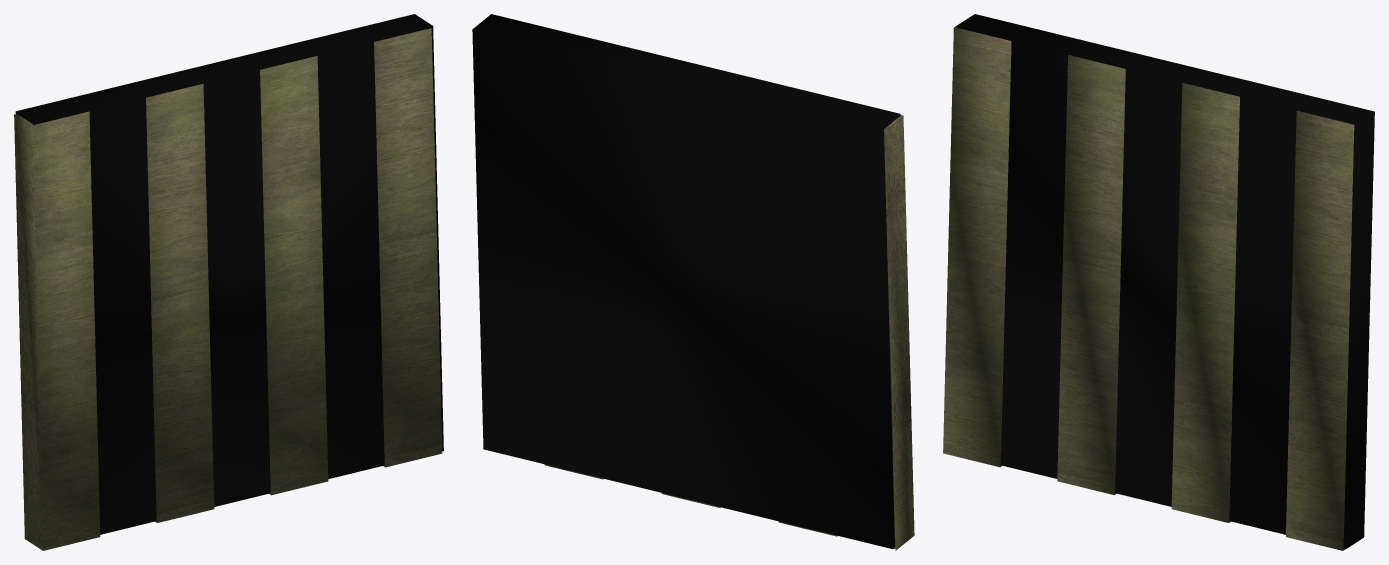
The picture shows the model from 3 angles, left to right: view 1: azimuth 30°, elevation 25°; view 2: azimuth 150°, elevation 25°; view 3: azimuth 330°, elevation 25°; orthographic projection. The views are drawn at different scales.
Parts seen in each view (by area): view 1: Plane.001, Plane; view 2: Plane, Plane.001; view 3: Plane.001, Plane.
Part boxes in pixels (x1=…): Plane.001: x1=14, y1=28, x2=442, y2=550; Plane: x1=15, y1=14, x2=443, y2=534; Plane: x1=472, y1=14, x2=900, y2=549; Plane.001: x1=544, y1=115, x2=914, y2=550; Plane.001: x1=943, y1=16, x2=1354, y2=550; Plane: x1=956, y1=14, x2=1374, y2=549.
Size of the model in its own units: 2.01 by 2.01 by 0.2583.
2 materials, 1 textured.
